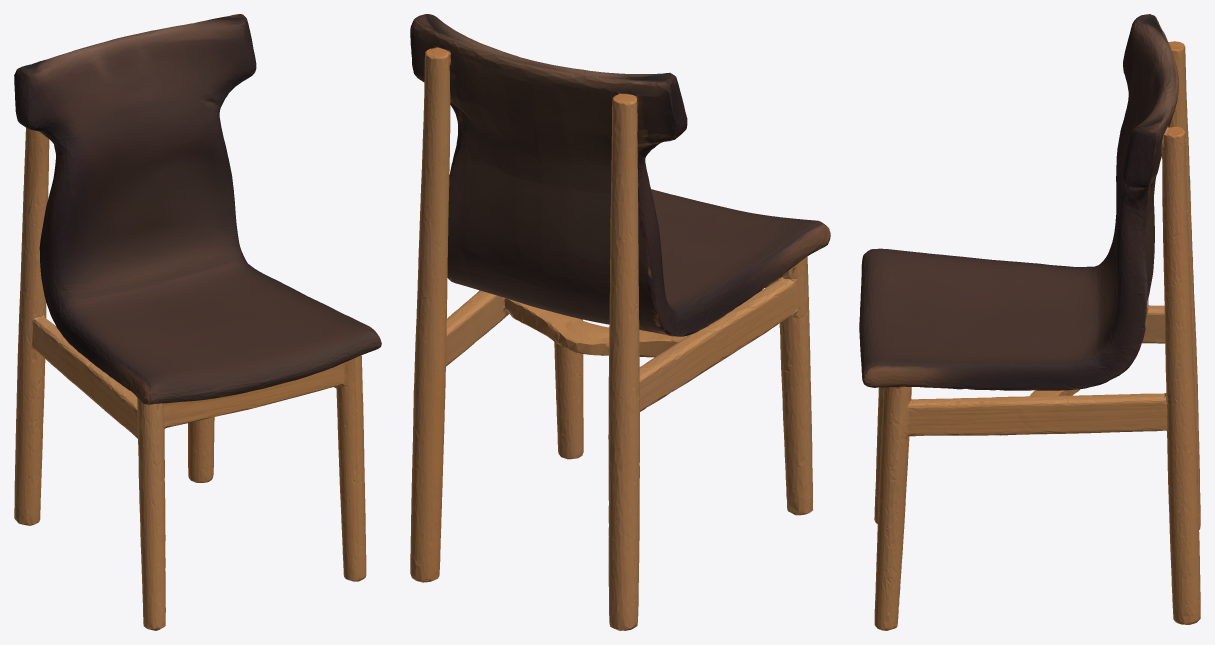
File: hunyuan3d_textured.obj
3 views of the same model, side by side, from view 1: azimuth 30°, elevation 25°; view 2: azimuth 150°, elevation 25°; view 3: azimuth 270°, elevation 25° (orthographic). The views are drawn at different scales.
Parts seen in each view (by area): view 1: hunyuan3d_textured; view 2: hunyuan3d_textured; view 3: hunyuan3d_textured.
Part boxes in pixels (box(x1,y1,x2,y2)): hunyuan3d_textured: box(14, 14, 381, 630); hunyuan3d_textured: box(410, 14, 830, 630); hunyuan3d_textured: box(859, 14, 1200, 630).
Bounding box in the file's own units: 1.04 × 1.99 × 1.22.
1 material, 1 textured.
